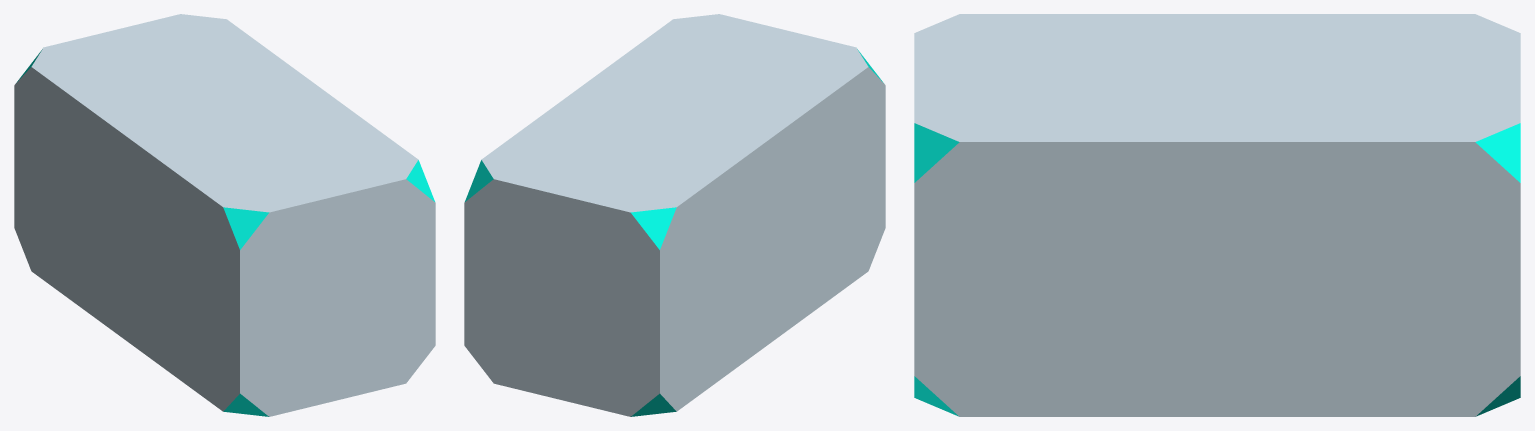
Rendered from box-d-long.fbx.
3 renders of one model, left to right at view 1: azimuth 30°, elevation 25°; view 2: azimuth 150°, elevation 25°; view 3: azimuth 270°, elevation 25°, orthographic. The views are drawn at different scales.
Visible parts, largest first — view 1: box-d-long; view 2: box-d-long; view 3: box-d-long.
Boxes of the visible parts, bbox=[...] form: box-d-long: bbox=[14, 14, 435, 416]; box-d-long: bbox=[464, 14, 885, 416]; box-d-long: bbox=[914, 14, 1520, 416].
Size of the model in its own units: 100 by 100 by 200.
